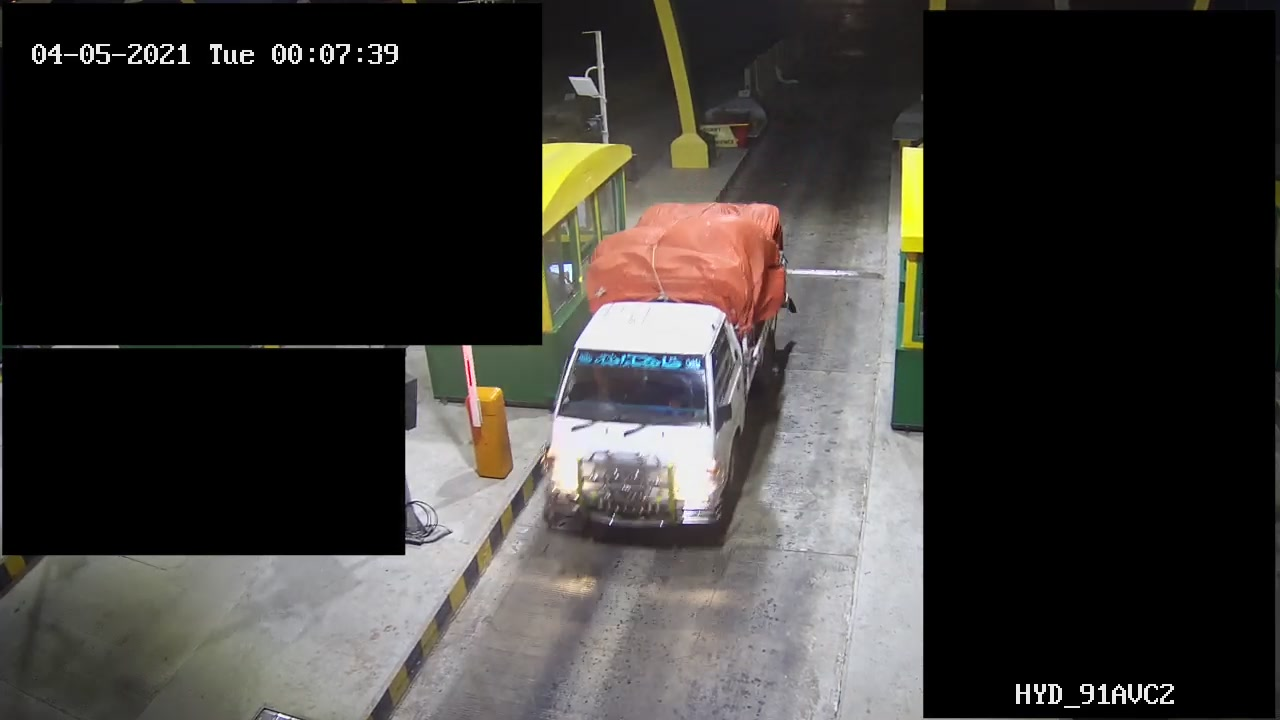F2: (544, 188, 808, 544)
